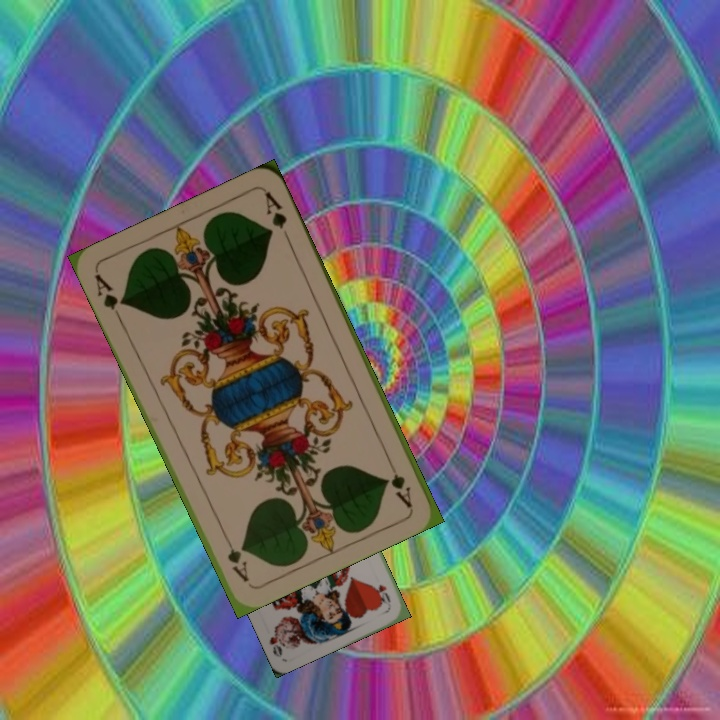GA: (90, 269, 127, 324), (382, 453, 415, 509)
HO: (371, 580, 393, 605)
